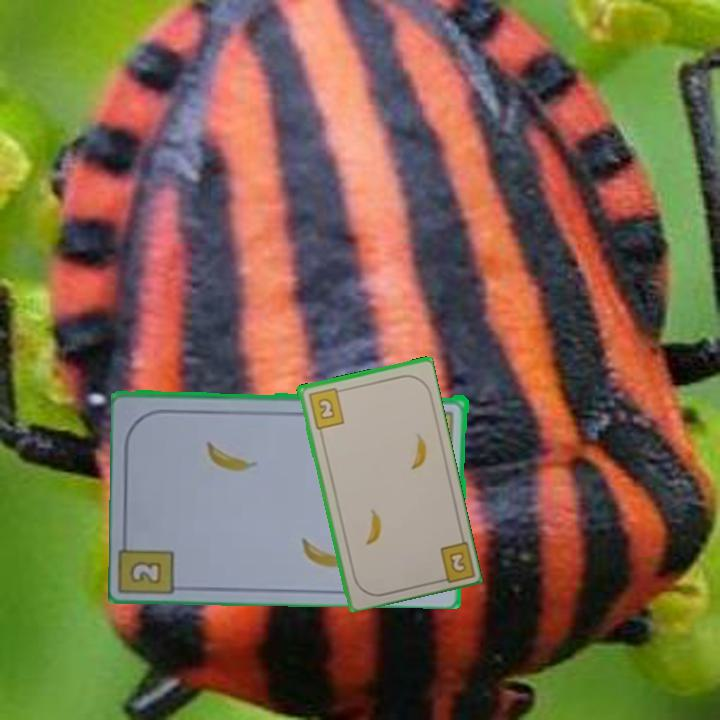2b: (432, 536, 476, 586), (304, 384, 347, 431), (130, 559, 162, 584)
